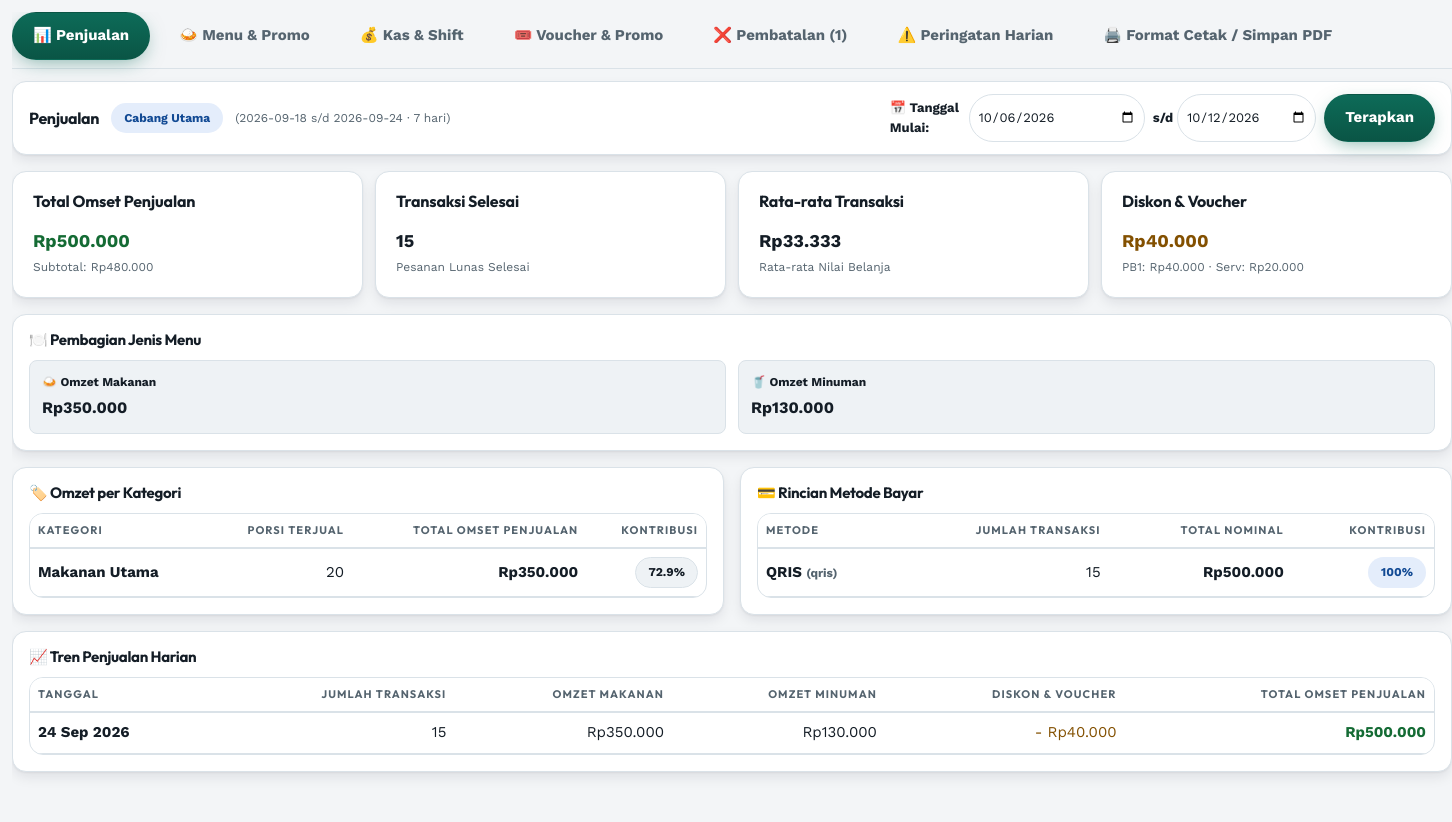
Test: LayarLaporan › dapat berpindah ke tab Pembatalan dan menampilkan rincian pembatalan
What coordinates should you click on to do the following:
click the button "❌ Pembatalan (1)"
I would click on:
 (780, 36)
Its box is [692,12,868,60].
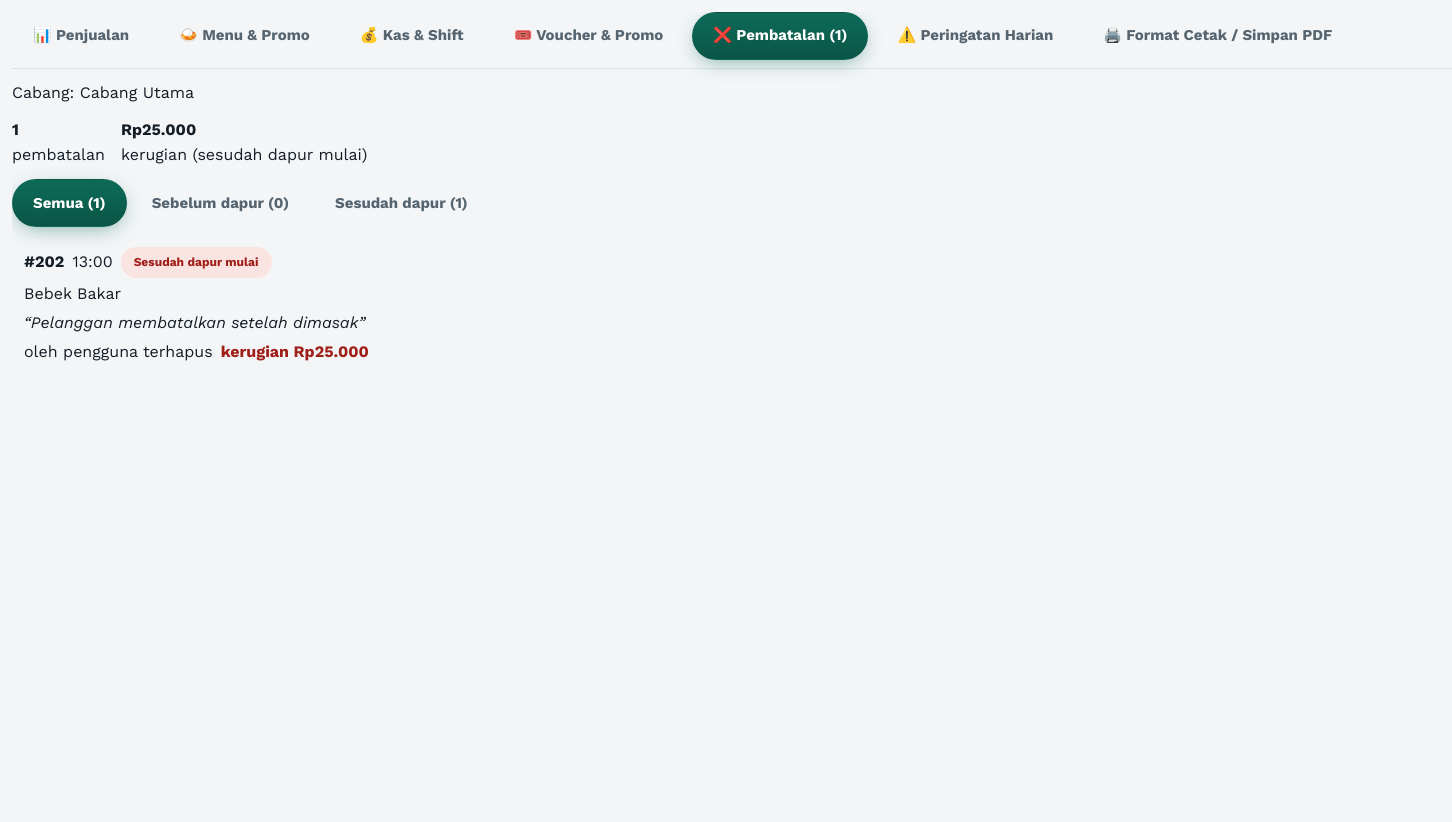
Now the text "Bebek Bakar" is shown, box [24,284,121,303]
Now the text "“Pelanggan membatalkan setelah dimasak”" is shown, box [24,313,365,332]
Now the text "Rp25.000" is shown, box [121,120,196,139]
